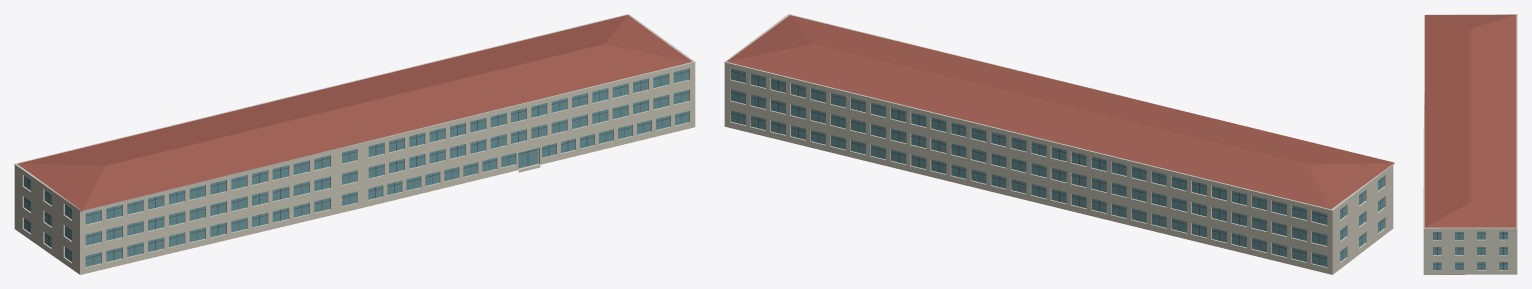
3 views of the same model, side by side, from view 1: azimuth 30°, elevation 25°; view 2: azimuth 150°, elevation 25°; view 3: azimuth 270°, elevation 25° (orthographic). The views are drawn at different scales.
Visible parts, largest first — view 1: artAnnex__roof, artAnnex__wall, artAnnex__glass, artAnnex__frame, artAnnex__trim, artAnnex__parapet; view 2: artAnnex__roof, artAnnex__wall, artAnnex__glass, artAnnex__frame, artAnnex__trim, artAnnex__parapet; view 3: artAnnex__roof, artAnnex__wall, artAnnex__trim, artAnnex__glass, artAnnex__frame, artAnnex__parapet.
Part boxes in pixels (bbox=[...]): artAnnex__roof: bbox=[18, 15, 691, 274]; artAnnex__wall: bbox=[14, 63, 695, 274]; artAnnex__glass: bbox=[24, 68, 689, 266]; artAnnex__frame: bbox=[24, 70, 689, 264]; artAnnex__trim: bbox=[14, 14, 695, 212]; artAnnex__parapet: bbox=[15, 53, 694, 210]; artAnnex__roof: bbox=[725, 15, 1394, 273]; artAnnex__wall: bbox=[724, 63, 1393, 274]; artAnnex__glass: bbox=[730, 68, 1384, 266]; artAnnex__frame: bbox=[730, 70, 1383, 264]; artAnnex__trim: bbox=[724, 14, 1394, 210]; artAnnex__parapet: bbox=[724, 15, 1392, 211]; artAnnex__roof: bbox=[1424, 15, 1516, 274]; artAnnex__wall: bbox=[1423, 229, 1517, 274]; artAnnex__trim: bbox=[1423, 14, 1517, 228]; artAnnex__glass: bbox=[1433, 231, 1507, 270]; artAnnex__frame: bbox=[1433, 231, 1507, 270]; artAnnex__parapet: bbox=[1424, 14, 1516, 229].
Bounding box in the file's own units: 102 × 11.93 × 18.92.
